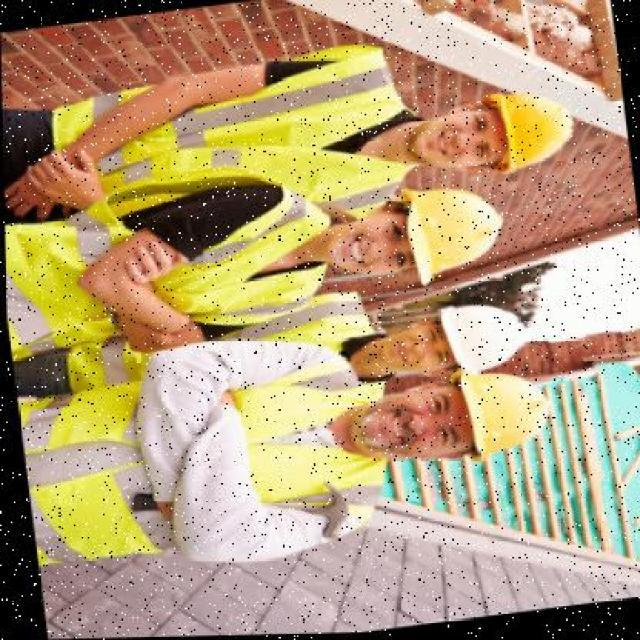helmet: (383, 175, 508, 289), (439, 362, 557, 467), (472, 81, 582, 185), (426, 295, 535, 375)
vest: (15, 360, 369, 570), (63, 42, 408, 232), (3, 182, 329, 360)
